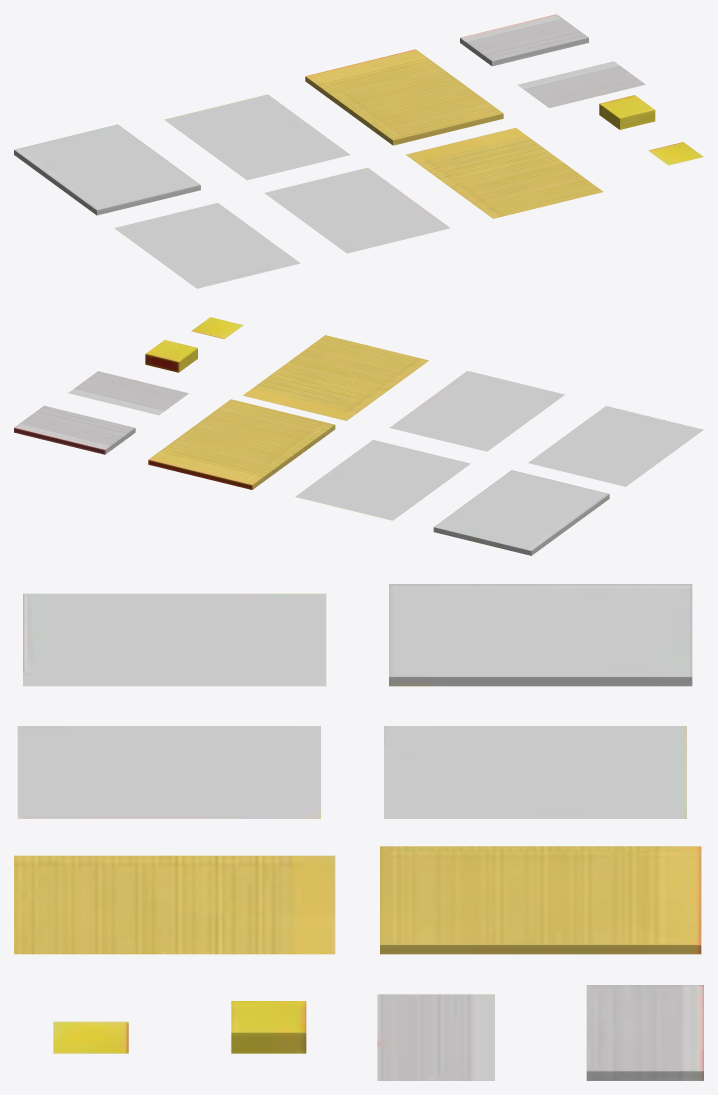
File: notepads.glb
3 views of the same model, one above another, from view 1: azimuth 30°, elevation 25°; view 2: azimuth 150°, elevation 25°; view 3: azimuth 270°, elevation 25° (orthographic). The views are drawn at different scales.
Parts seen in each view (by area): view 1: office_notepads_yellow_sheet; view 2: office_notepads_yellow_sheet; view 3: office_notepads_yellow_sheet.
Boxes of the visible parts, x1,y1,x2,y2 form: office_notepads_yellow_sheet: (14,14,703,288); office_notepads_yellow_sheet: (14,317,703,555); office_notepads_yellow_sheet: (14,584,703,1080).
Size of the model in its own units: 1.1 by 0.0219 by 0.6598.
Materials: 1 (1 with a texture image).
